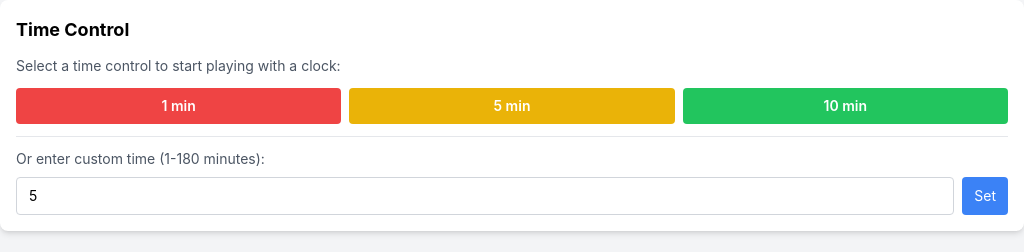
Timer Fix Verification › timer displays correctly and maintains stable time values
The image size is (1024, 252).
// Set 1 minute timer
Click the button "1 min".
click(179, 106)  # box [16, 88, 341, 124]
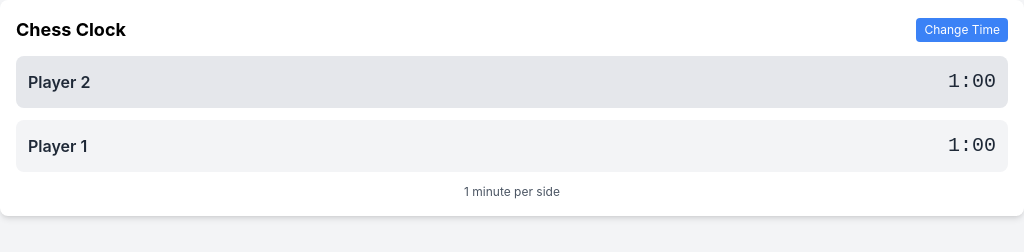
Result: the text "1:00" is shown 2 times at [948, 68, 996, 96]; [948, 132, 996, 160]
Result: the heading "Chess Clock" is shown at [16, 16, 126, 44]
Result: the text "Player 1" is shown at [28, 134, 87, 158]
